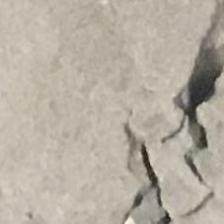Crack: (132, 7, 224, 223)
